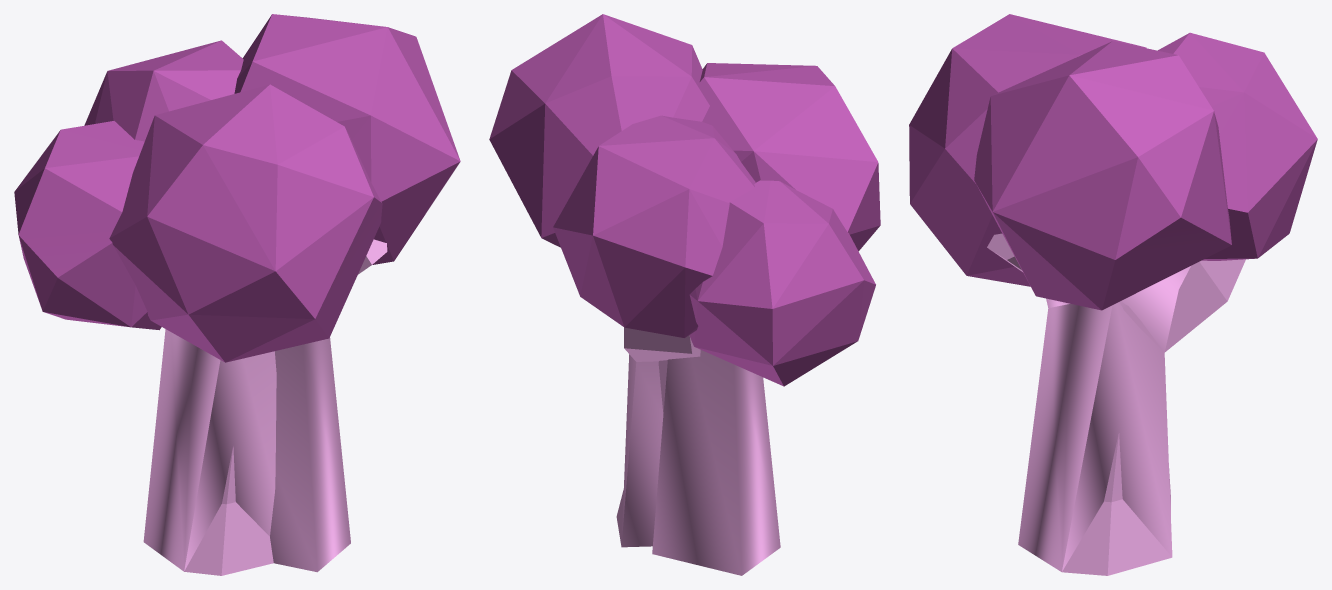
File: item_shrinking_broccoli.glb
3 renders of one model, left to right at view 1: azimuth 30°, elevation 25°; view 2: azimuth 150°, elevation 25°; view 3: azimuth 270°, elevation 25°, orthographic. The views are drawn at different scales.
Visible parts, largest first — view 1: Broccoli_submesh_1, Broccoli_submesh_0; view 2: Broccoli_submesh_1, Broccoli_submesh_0; view 3: Broccoli_submesh_1, Broccoli_submesh_0.
Boxes of the visible parts, left/top/right/bottom form: Broccoli_submesh_1: left=14, top=14, right=460, bottom=362; Broccoli_submesh_0: left=143, top=239, right=387, bottom=575; Broccoli_submesh_1: left=489, top=14, right=880, bottom=386; Broccoli_submesh_0: left=616, top=327, right=780, bottom=575; Broccoli_submesh_1: left=909, top=14, right=1317, bottom=310; Broccoli_submesh_0: left=987, top=233, right=1245, bottom=575.
Bounding box in the file's own units: 0.1503 × 0.1799 × 0.1289.
